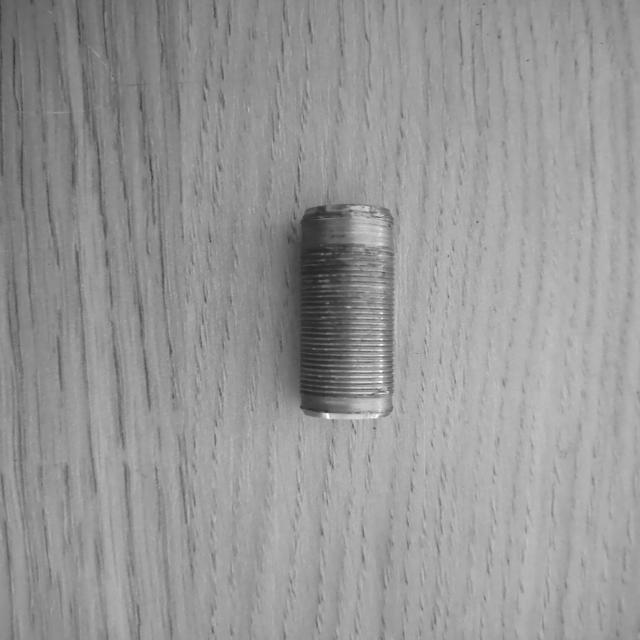Broken: (297, 202, 397, 424)
